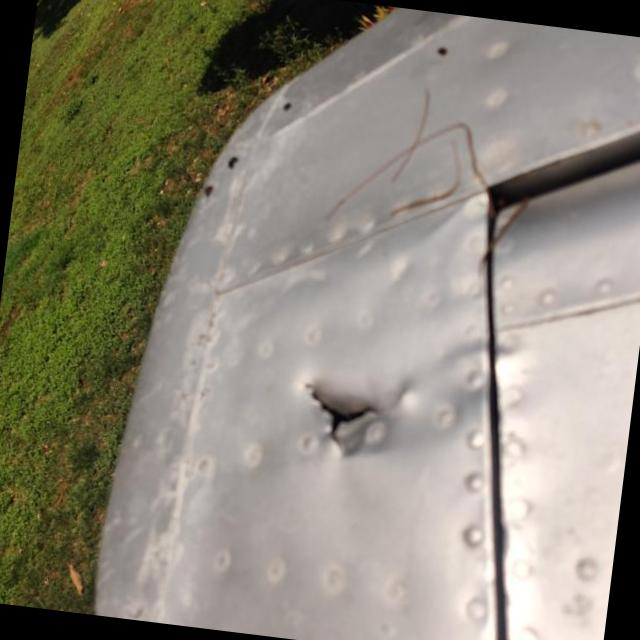Crack: (307, 371, 405, 457)
